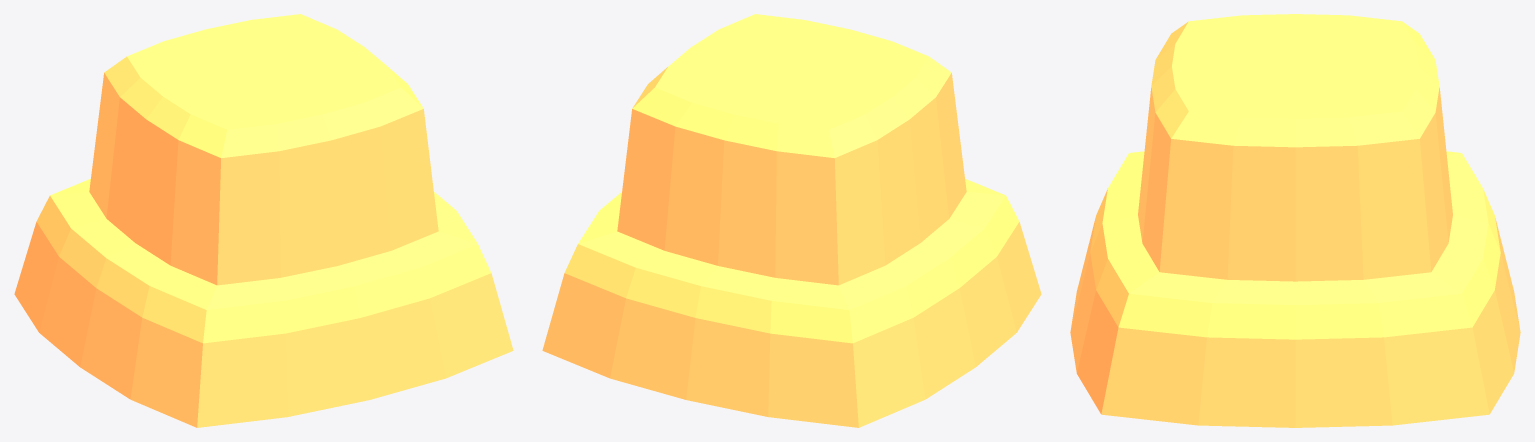
File: rock05.fbx
3 renders of one model, left to right at view 1: azimuth 30°, elevation 25°; view 2: azimuth 150°, elevation 25°; view 3: azimuth 270°, elevation 25°, orthographic. The views are drawn at different scales.
Parts seen in each view (by area): view 1: rock02_main, rock01_lights; view 2: rock02_main, rock01_lights; view 3: rock02_main, rock01_lights.
Boxes of the visible parts, x1=… form: rock02_main: x1=14, y1=73, x2=513, y2=427; rock01_lights: x1=36, y1=14, x2=491, y2=343; rock02_main: x1=542, y1=73, x2=1041, y2=427; rock01_lights: x1=564, y1=14, x2=1019, y2=343; rock02_main: x1=1070, y1=87, x2=1520, y2=427; rock01_lights: x1=1090, y1=14, x2=1500, y2=339.
Size of the model in its own units: 8.31 by 5.41 by 8.29.
